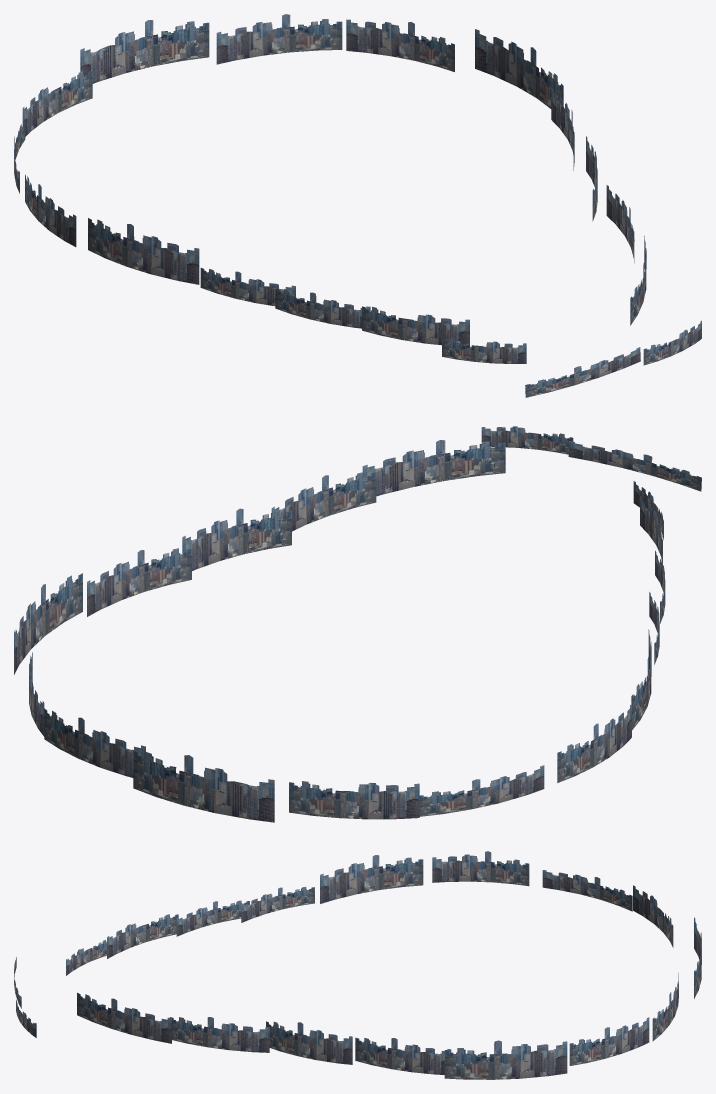
File: Canada_track_building_wall.dae
The picture shows the model from 3 angles, top to bottom: view 1: azimuth 30°, elevation 25°; view 2: azimuth 150°, elevation 25°; view 3: azimuth 270°, elevation 25°; orthographic projection. The views are drawn at different scales.
Visible parts, largest first — view 1: building_wall; view 2: building_wall; view 3: building_wall.
Part boxes in pixels (x1,y1,x2,y2): building_wall: [14, 14, 701, 397]; building_wall: [14, 426, 701, 822]; building_wall: [14, 851, 701, 1079].
Size of the model in its own units: 115 by 169 by 12.8.
Materials: 1 (1 with a texture image).
